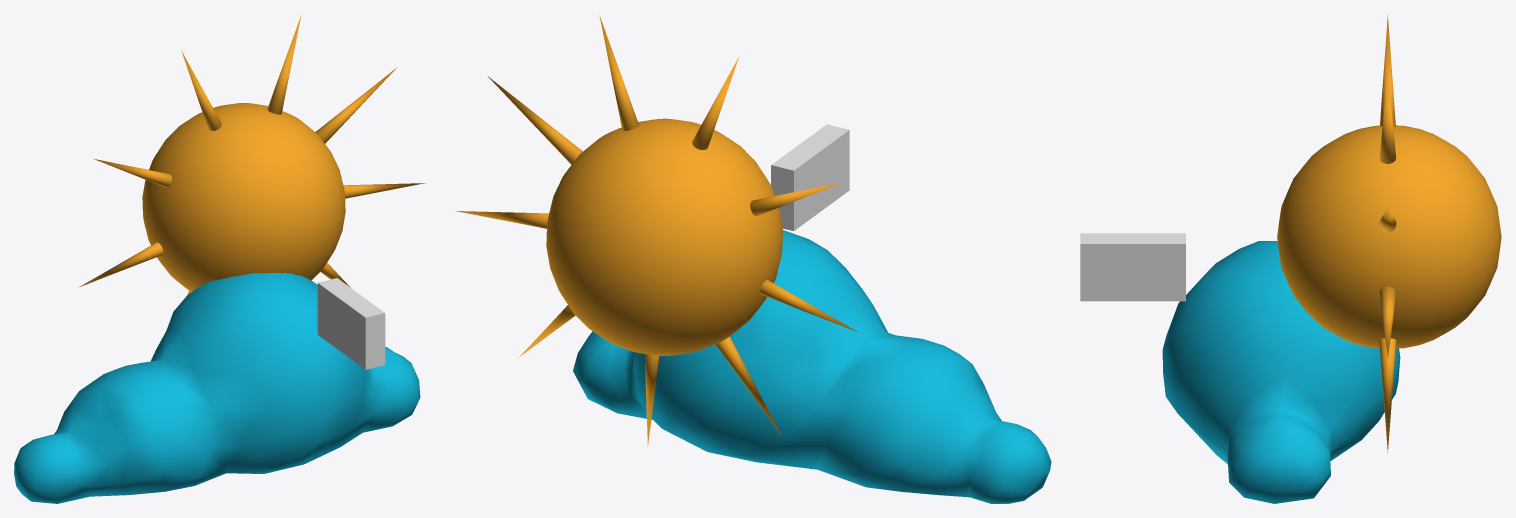
The model's file is SunNCloud.fbx.
3 views of the same model, side by side, from view 1: azimuth 30°, elevation 25°; view 2: azimuth 150°, elevation 25°; view 3: azimuth 270°, elevation 25° (orthographic). The views are drawn at different scales.
Parts seen in each view (by area): view 1: cloud, Sun, Cube; view 2: cloud, Sun, Cube; view 3: Sun, cloud, Cube.
Part boxes in pixels (box(x1,y1,x2,y2)): cloud: box(14, 273, 420, 503); Sun: box(79, 15, 425, 295); Cube: box(317, 278, 385, 369); cloud: box(573, 230, 1051, 503); Sun: box(456, 15, 858, 445); Cube: box(771, 124, 849, 230); Sun: box(1277, 14, 1501, 452); cloud: box(1162, 241, 1400, 503); Cube: box(1080, 233, 1185, 301).
Size of the model in its own units: 1101 by 865 by 798.
